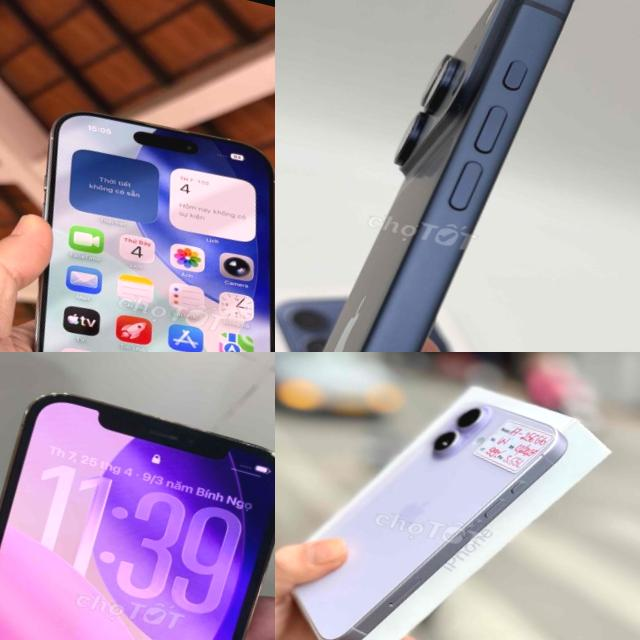gen_12_13: (0, 376, 275, 640)
gen_16: (0, 91, 275, 352)
gen_17: (275, 0, 627, 352), (275, 358, 575, 640)
